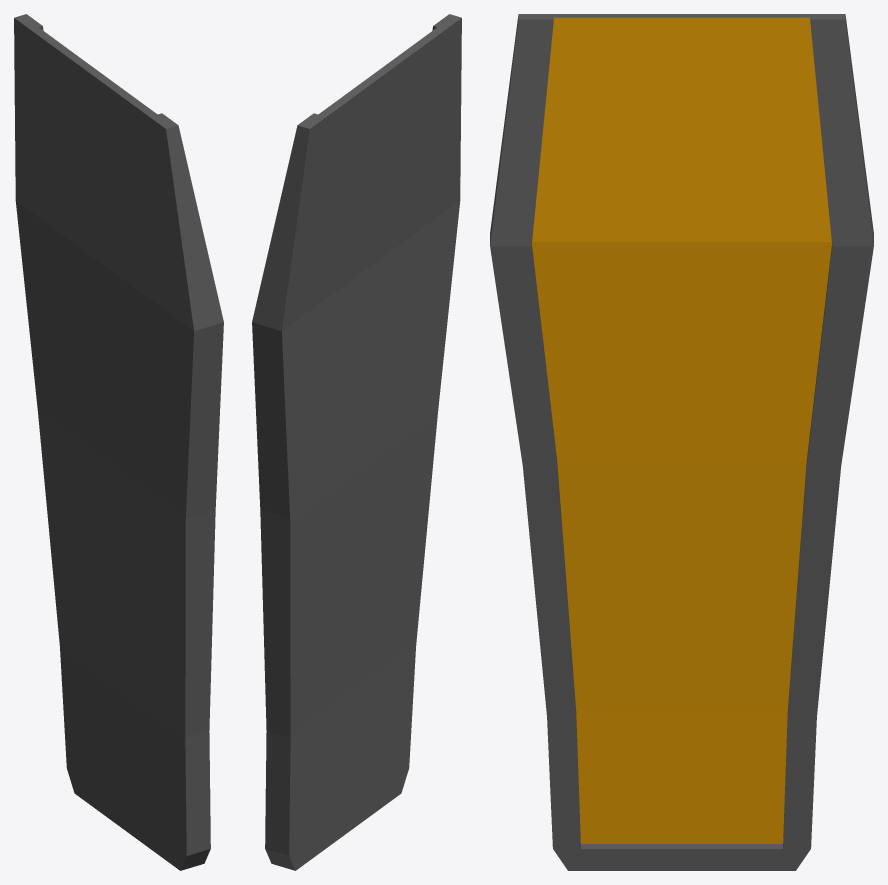
Rendered from robe_additional_1.fbx.
3 renders of one model, left to right at view 1: azimuth 30°, elevation 25°; view 2: azimuth 150°, elevation 25°; view 3: azimuth 270°, elevation 25°, orthographic. The views are drawn at different scales.
Visible parts, largest first — view 1: Cube.006; view 2: Cube.006; view 3: Cube.006.
Boxes of the visible parts, bbox=[...] form: Cube.006: bbox=[14, 14, 223, 870]; Cube.006: bbox=[252, 14, 461, 870]; Cube.006: bbox=[490, 14, 873, 870].
Bounding box in the file's own units: 9.22 × 110 × 46.3.
